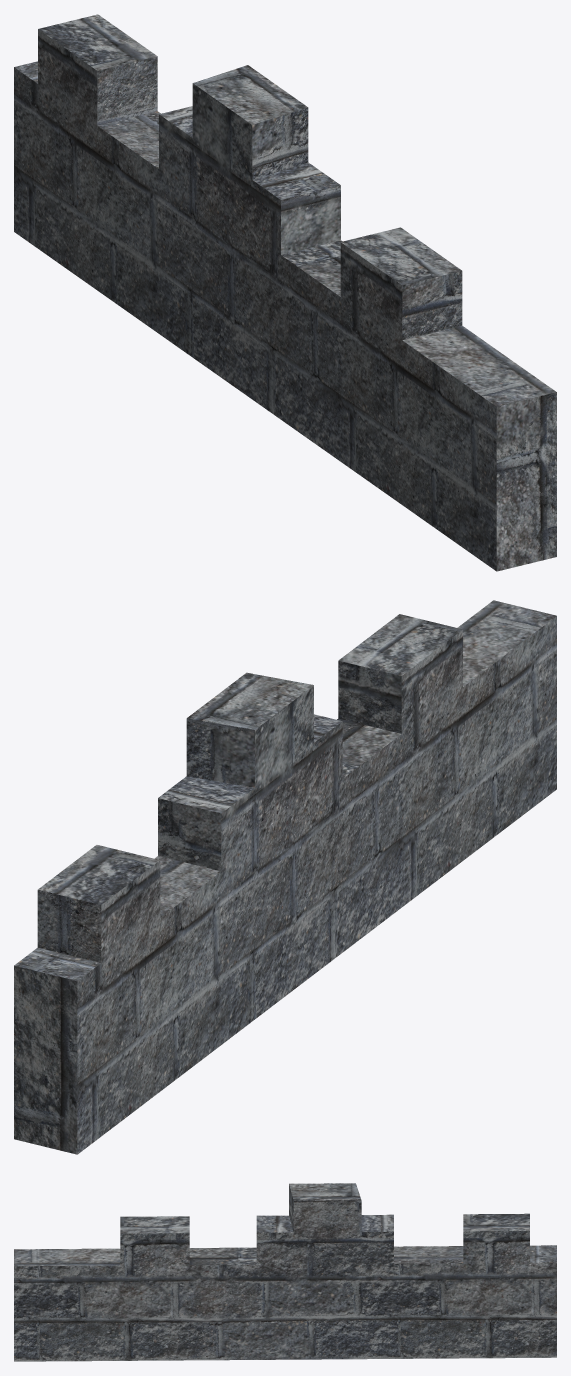
Rendered from StoneWallA_BLOD.fbx.
3 views of the same model, one above another, from view 1: azimuth 30°, elevation 25°; view 2: azimuth 150°, elevation 25°; view 3: azimuth 270°, elevation 25° (orthographic). The views are drawn at different scales.
Parts seen in each view (by area): view 1: StoneWallA_BLOD; view 2: StoneWallA_BLOD; view 3: StoneWallA_BLOD.
Boxes of the visible parts, x1,y1,x2,y2 form: StoneWallA_BLOD: (14, 14, 556, 571); StoneWallA_BLOD: (14, 600, 556, 1154); StoneWallA_BLOD: (14, 1183, 556, 1361).
Size of the model in its own units: 53.72 by 190 by 588.
